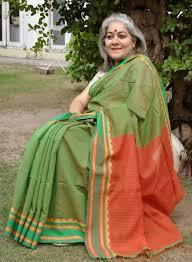Human: (16, 8, 183, 260)
